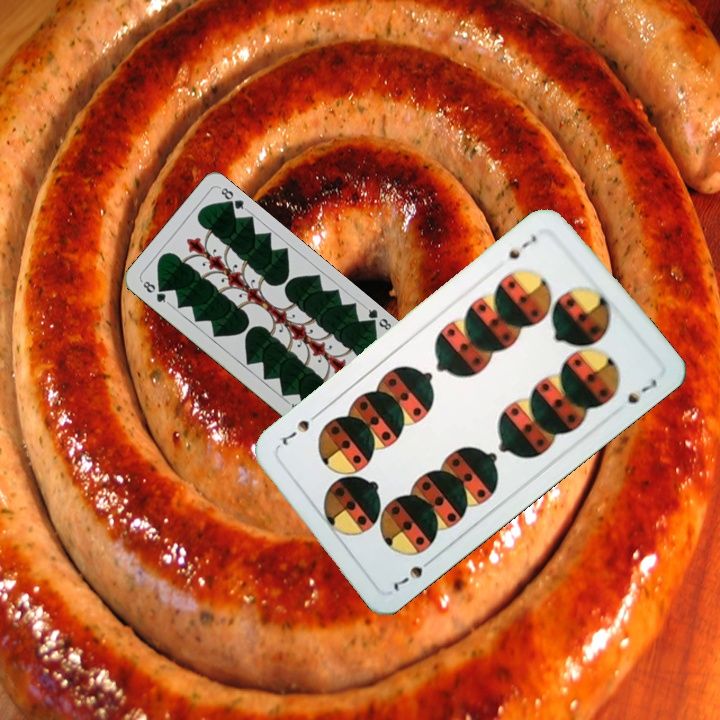G8: (361, 302, 395, 333), (137, 277, 172, 307)
S7: (389, 553, 437, 595), (504, 231, 539, 262)
